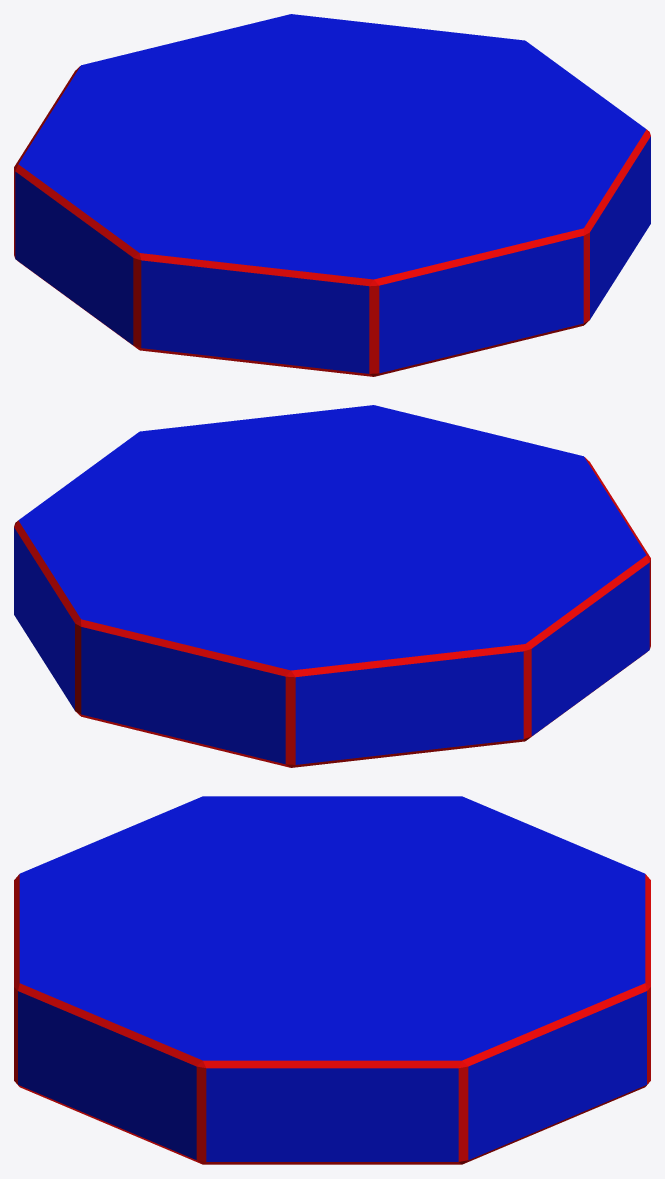
The model's file is L10_MovingPlateform.fbx.
3 views of the same model, one above another, from view 1: azimuth 30°, elevation 25°; view 2: azimuth 150°, elevation 25°; view 3: azimuth 270°, elevation 25° (orthographic). The views are drawn at different scales.
Parts seen in each view (by area): view 1: L10_MovingPlateform; view 2: L10_MovingPlateform; view 3: L10_MovingPlateform.
Part boxes in pixels (x1,y1,x2,y2): L10_MovingPlateform: [14, 14, 650, 376]; L10_MovingPlateform: [14, 405, 650, 767]; L10_MovingPlateform: [14, 796, 650, 1164].
Bounding box in the file's own units: 554 × 100 × 554.
